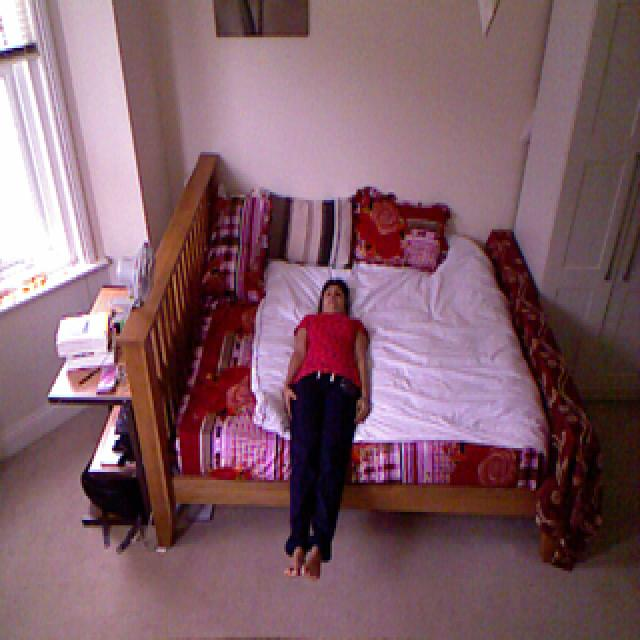lying: (278, 280, 371, 580)
